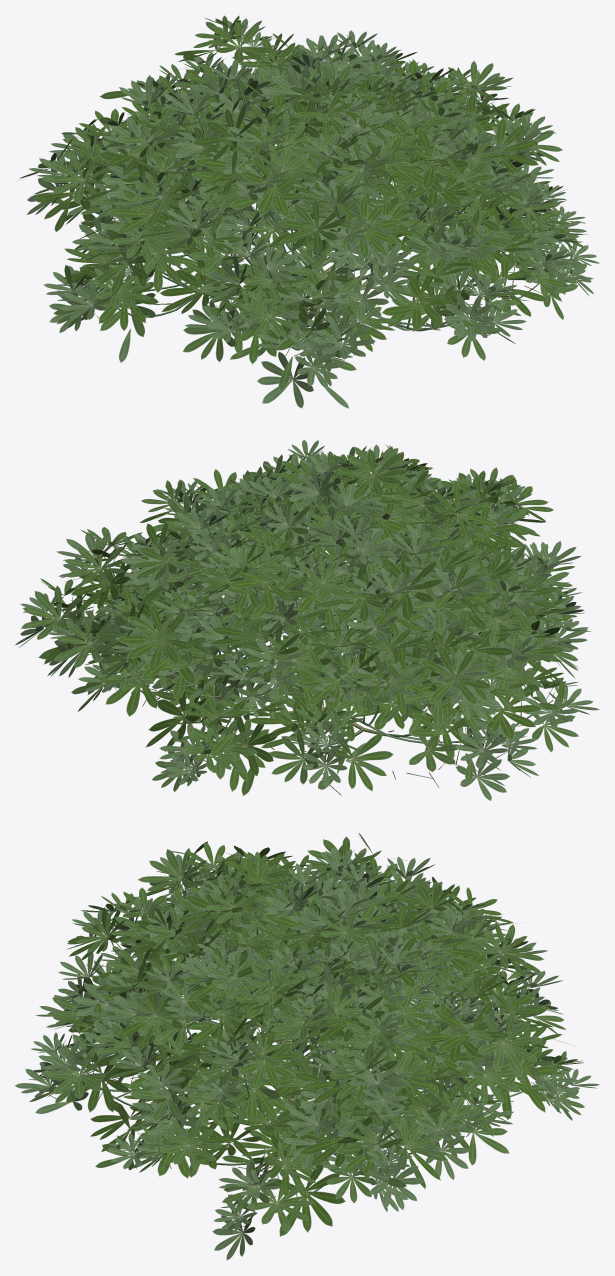
Rendered from realistic_hd_yellow_bush_lupine_1625.glb.
3 renders of one model, top to bottom at view 1: azimuth 30°, elevation 25°; view 2: azimuth 150°, elevation 25°; view 3: azimuth 270°, elevation 25°, orthographic.
Parts seen in each view (by area): view 1: Lupinus_arboreus_HD_Lupinus arb leaflet 5_0, Lupinus_arboreus_HD_Lupinus arb leaflet 4_0, Lupinus_arboreus_HD_Lupinus arb leaflet 3_0, Lupinus_arboreus_HD_Lupinus arb leaflet 2_0, Lupinus_arboreus_HD_Lupinus arb leaflet 1_0, Lupinus_arboreus_HD_Lupinus arbo branch_0, Lupinus_arboreus_HD_Lupin arb lf stk 1_0; view 2: Lupinus_arboreus_HD_Lupinus arb leaflet 5_0, Lupinus_arboreus_HD_Lupinus arb leaflet 4_0, Lupinus_arboreus_HD_Lupinus arb leaflet 3_0, Lupinus_arboreus_HD_Lupinus arb leaflet 2_0, Lupinus_arboreus_HD_Lupinus arb leaflet 1_0, Lupinus_arboreus_HD_Lupinus arbo branch_0, Lupinus_arboreus_HD_Lupin arb lf stk 1_0, Lupinus_arboreus_HD_Lupin arb lf stk 3_0; view 3: Lupinus_arboreus_HD_Lupinus arb leaflet 4_0, Lupinus_arboreus_HD_Lupinus arb leaflet 5_0, Lupinus_arboreus_HD_Lupinus arb leaflet 3_0, Lupinus_arboreus_HD_Lupinus arb leaflet 2_0, Lupinus_arboreus_HD_Lupinus arb leaflet 1_0, Lupinus_arboreus_HD_Lupinus arbo branch_0, Lupinus_arboreus_HD_Lupin arb lf stk 1_0.
Part boxes in pixels (x1,y1,x2,y2): Lupinus_arboreus_HD_Lupinus arb leaflet 5_0: [26, 18, 599, 408]; Lupinus_arboreus_HD_Lupinus arb leaflet 4_0: [34, 15, 587, 391]; Lupinus_arboreus_HD_Lupinus arb leaflet 3_0: [19, 18, 570, 364]; Lupinus_arboreus_HD_Lupinus arb leaflet 2_0: [35, 29, 563, 355]; Lupinus_arboreus_HD_Lupinus arb leaflet 1_0: [78, 48, 566, 341]; Lupinus_arboreus_HD_Lupinus arbo branch_0: [80, 39, 552, 350]; Lupinus_arboreus_HD_Lupin arb lf stk 1_0: [55, 26, 549, 338]; Lupinus_arboreus_HD_Lupinus arb leaflet 5_0: [15, 439, 599, 800]; Lupinus_arboreus_HD_Lupinus arb leaflet 4_0: [20, 446, 579, 791]; Lupinus_arboreus_HD_Lupinus arb leaflet 3_0: [38, 444, 575, 795]; Lupinus_arboreus_HD_Lupinus arb leaflet 2_0: [42, 454, 569, 781]; Lupinus_arboreus_HD_Lupinus arb leaflet 1_0: [84, 465, 545, 751]; Lupinus_arboreus_HD_Lupinus arbo branch_0: [61, 463, 553, 762]; Lupinus_arboreus_HD_Lupin arb lf stk 1_0: [54, 450, 559, 768]; Lupinus_arboreus_HD_Lupin arb lf stk 3_0: [113, 496, 468, 787]; Lupinus_arboreus_HD_Lupinus arb leaflet 4_0: [29, 845, 584, 1231]; Lupinus_arboreus_HD_Lupinus arb leaflet 5_0: [14, 847, 599, 1260]; Lupinus_arboreus_HD_Lupinus arb leaflet 3_0: [39, 832, 567, 1236]; Lupinus_arboreus_HD_Lupinus arb leaflet 2_0: [57, 852, 559, 1232]; Lupinus_arboreus_HD_Lupinus arb leaflet 1_0: [68, 877, 547, 1164]; Lupinus_arboreus_HD_Lupinus arbo branch_0: [73, 871, 552, 1203]; Lupinus_arboreus_HD_Lupin arb lf stk 1_0: [82, 860, 559, 1211].
Size of the model in its own units: 42220 by 21091 by 40638.
Materials: 13 (13 with a texture image).
